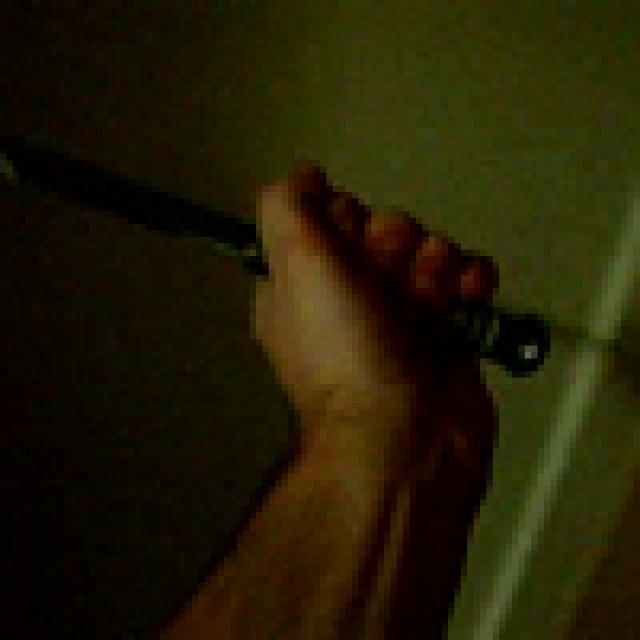knife: (26, 134, 550, 378)
